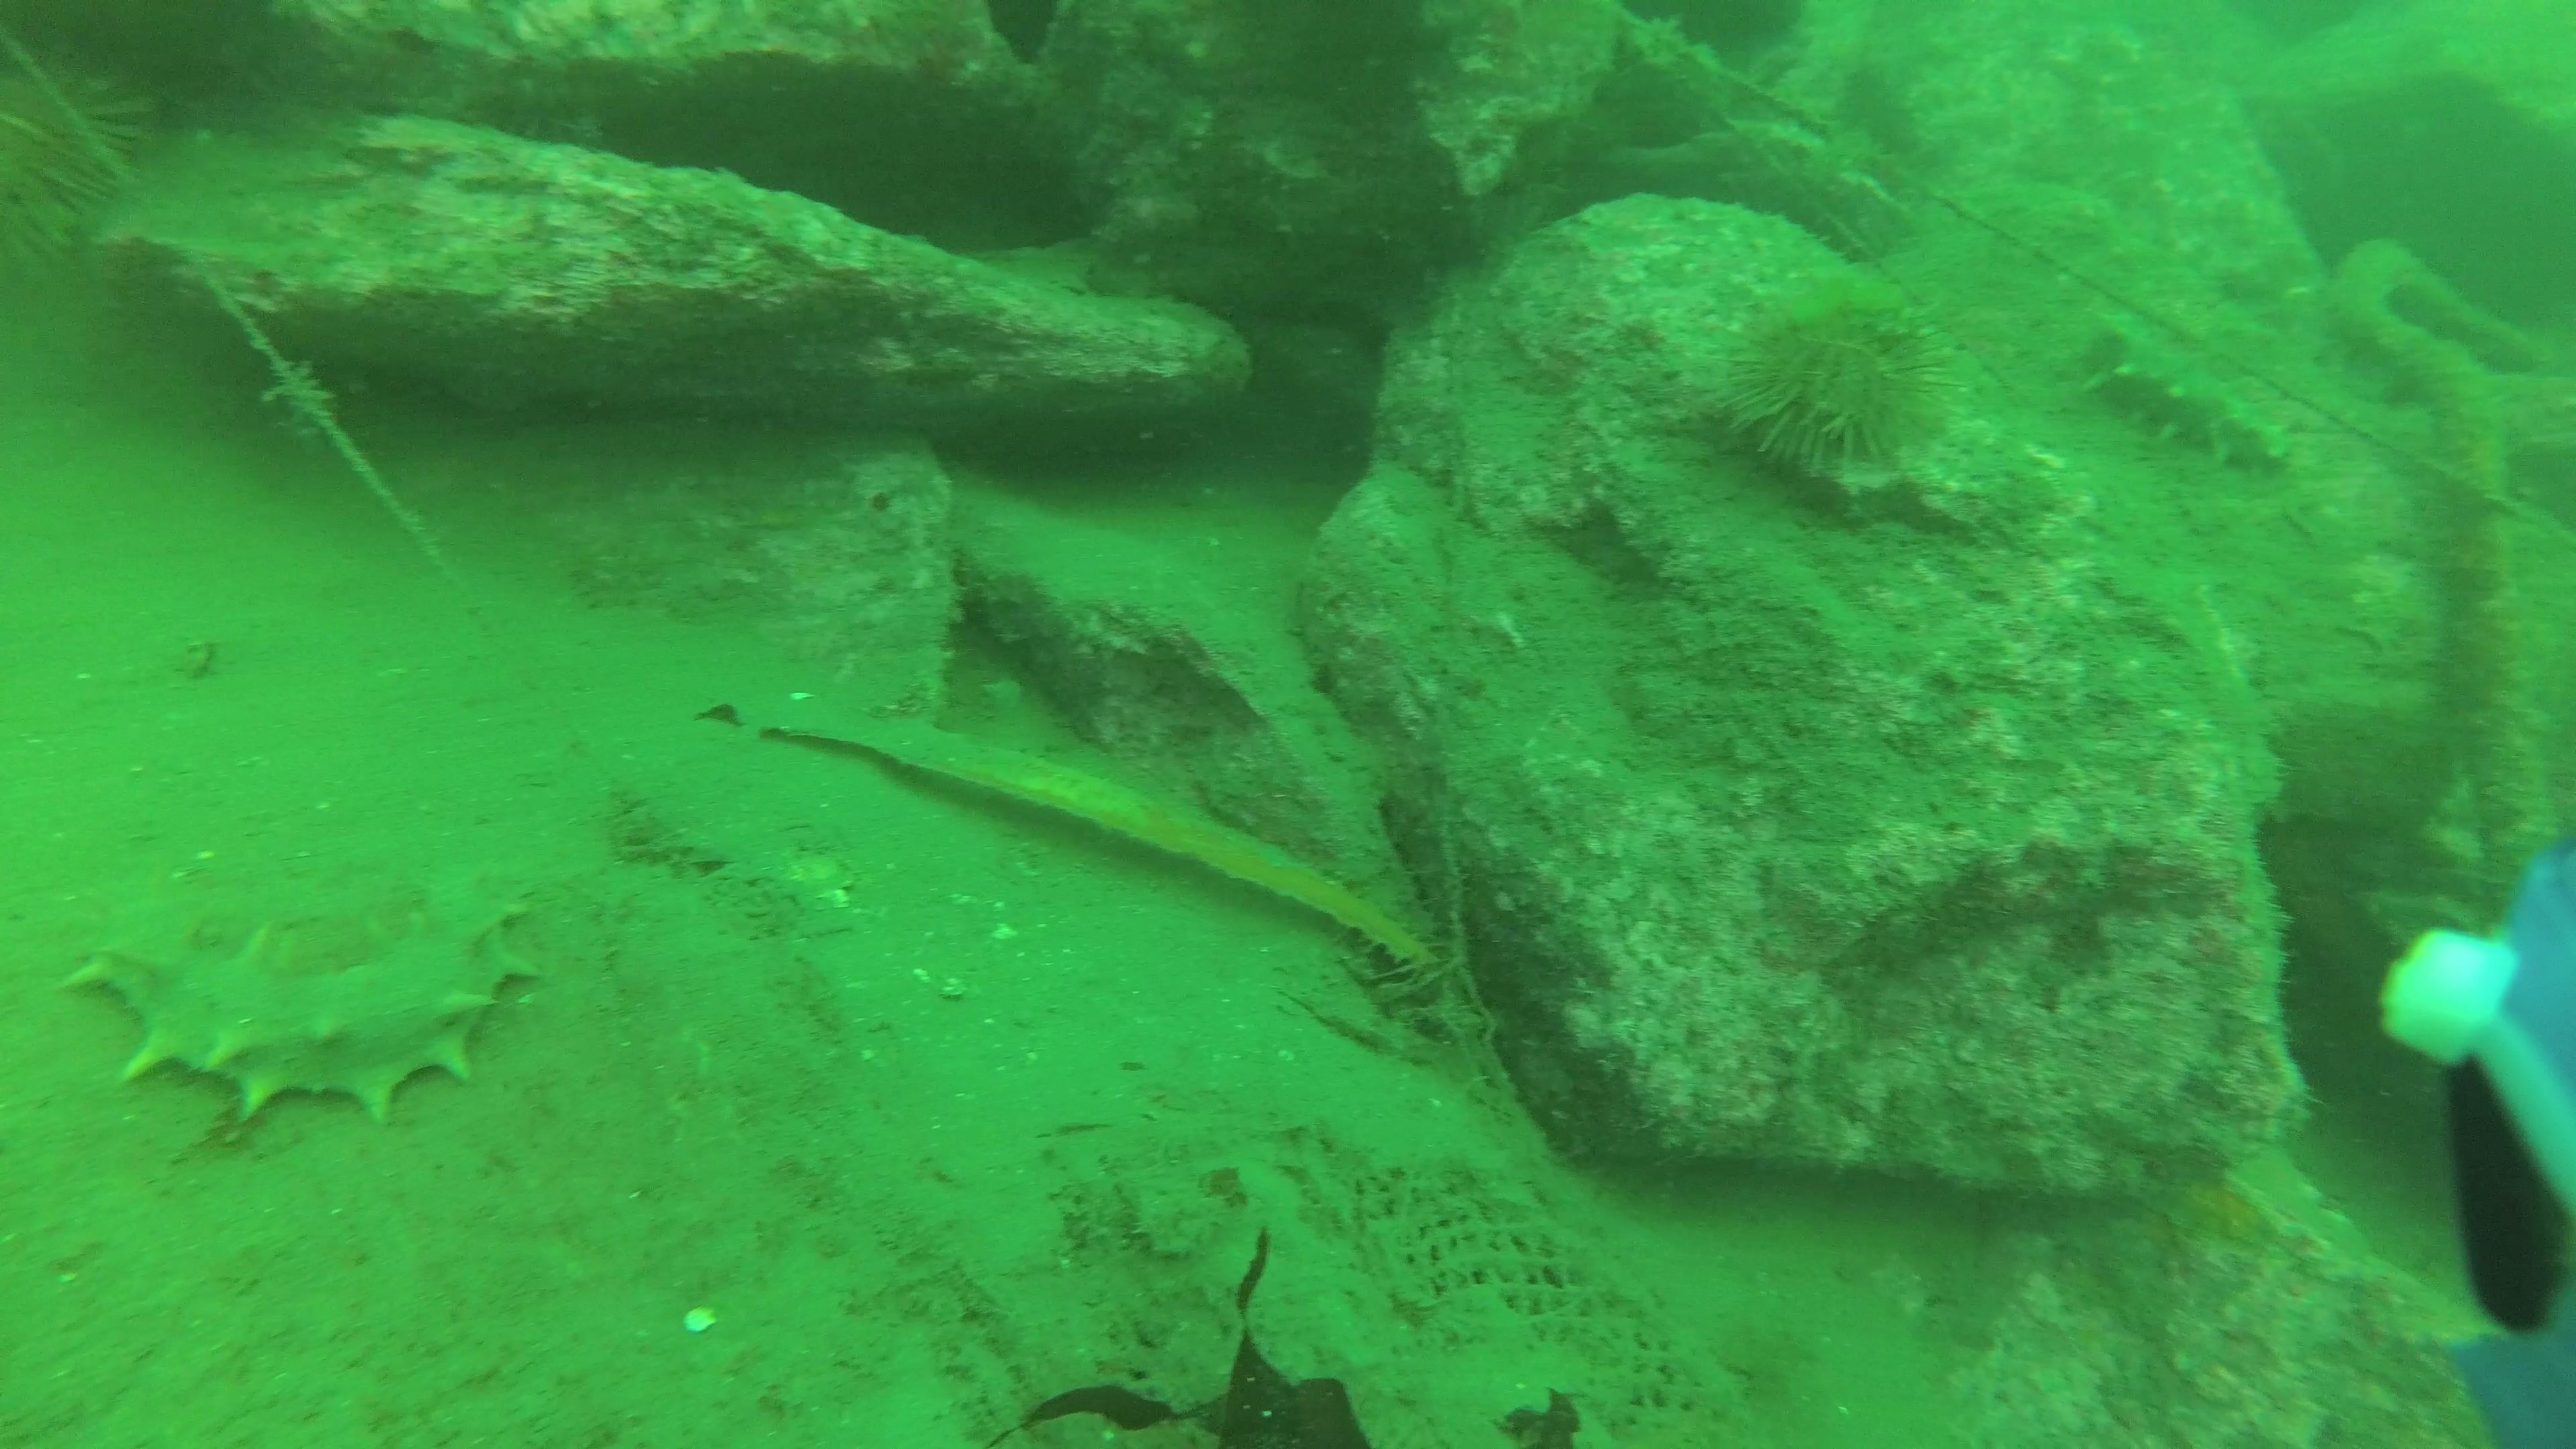echinus: (1713, 262, 1971, 483)
holothurian: (78, 883, 550, 1136), (2075, 313, 2295, 487)
